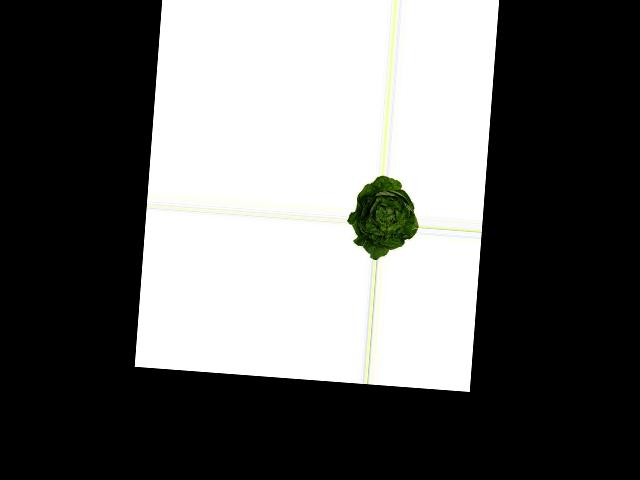lettuce: (344, 172, 421, 260)
